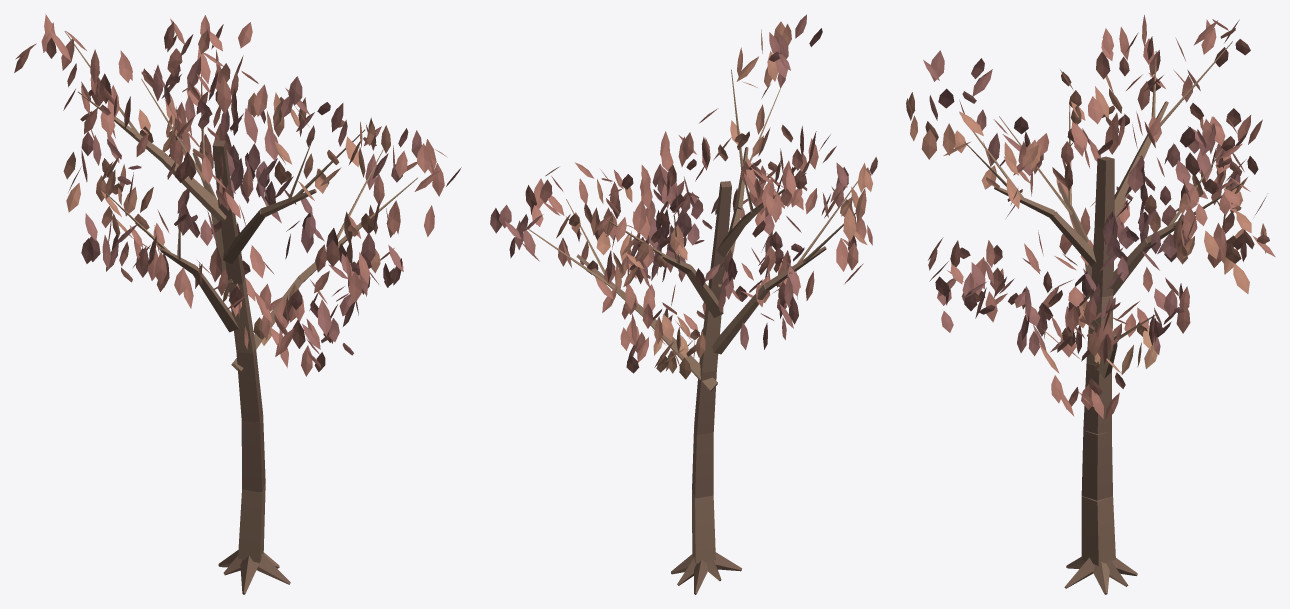
File: tree_3d_06_red.glb
3 renders of one model, left to right at view 1: azimuth 30°, elevation 25°; view 2: azimuth 150°, elevation 25°; view 3: azimuth 270°, elevation 25°, orthographic. The views are drawn at different scales.
Visible parts, largest first — view 1: tree_3d_06_red_foliage, tree_3d_06_red_wood; view 2: tree_3d_06_red_foliage, tree_3d_06_red_wood; view 3: tree_3d_06_red_foliage, tree_3d_06_red_wood.
Part boxes in pixels (bbox=[...]): tree_3d_06_red_foliage: bbox=[14, 14, 461, 376]; tree_3d_06_red_wood: bbox=[64, 31, 417, 594]; tree_3d_06_red_foliage: bbox=[490, 14, 877, 379]; tree_3d_06_red_wood: bbox=[526, 69, 866, 594]; tree_3d_06_red_foliage: bbox=[906, 15, 1275, 419]; tree_3d_06_red_wood: bbox=[959, 41, 1244, 594].
Bounding box in the file's own units: 5.8 × 8 × 5.2.
